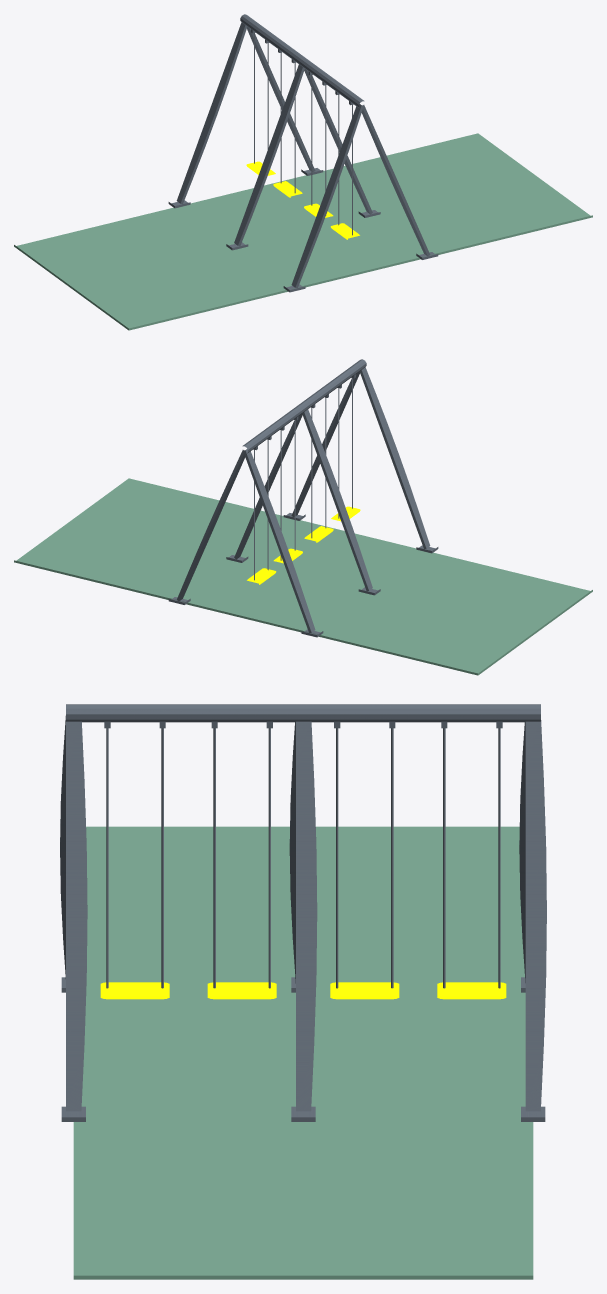
3 renders of one model, top to bottom at view 1: azimuth 30°, elevation 25°; view 2: azimuth 150°, elevation 25°; view 3: azimuth 270°, elevation 25°, orthographic. The views are drawn at different scales.
Parts seen in each view (by area): view 1: Safety_Pad, Swing_Frame, Swing3_Chains, Swing2_Chains; view 2: Safety_Pad, Swing_Frame, Swing2_Chains, Swing3_Chains; view 3: Safety_Pad, Swing_Frame, Swing1_Chains, Swing2_Chains, Swing3_Chains, Swing4_Chains, Swing1_Seat, Swing4_Seat, Swing2_Seat, Swing3_Seat.
Boxes of the visible parts, x1,y1,x2,y2 form: Safety_Pad: [14, 133, 592, 330]; Swing_Frame: [168, 14, 438, 292]; Swing3_Chains: [311, 75, 326, 215]; Swing2_Chains: [280, 52, 295, 193]; Safety_Pad: [14, 478, 592, 675]; Swing_Frame: [168, 359, 438, 637]; Swing2_Chains: [280, 420, 295, 560]; Swing3_Chains: [311, 397, 326, 538]; Safety_Pad: [73, 826, 533, 1279]; Swing_Frame: [60, 704, 546, 1121]; Swing1_Chains: [443, 728, 500, 988]; Swing2_Chains: [336, 728, 393, 988]; Swing3_Chains: [213, 728, 270, 988]; Swing4_Chains: [106, 728, 163, 988]; Swing1_Seat: [437, 982, 506, 999]; Swing4_Seat: [100, 982, 169, 999]; Swing2_Seat: [330, 982, 399, 999]; Swing3_Seat: [207, 982, 276, 999].
Size of what is drawn, in the model's own units: 7 by 2.51 by 3.18.
4 materials, 2 textured.
